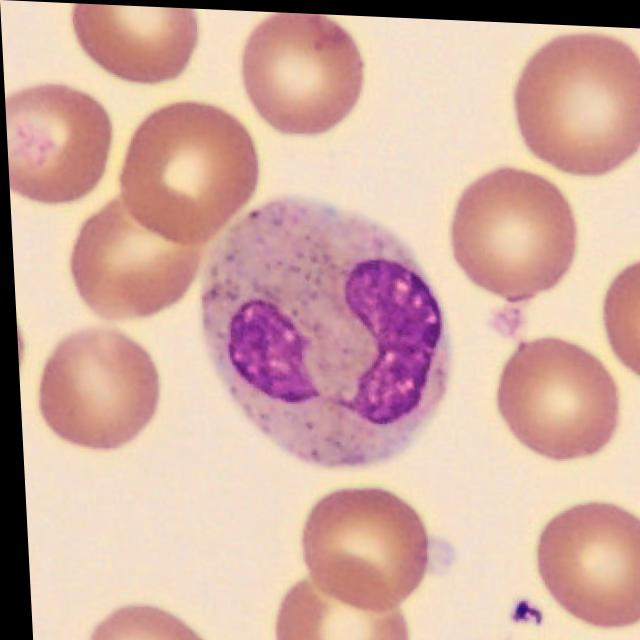Neutrofilo segmentado: (196, 195, 446, 468)
